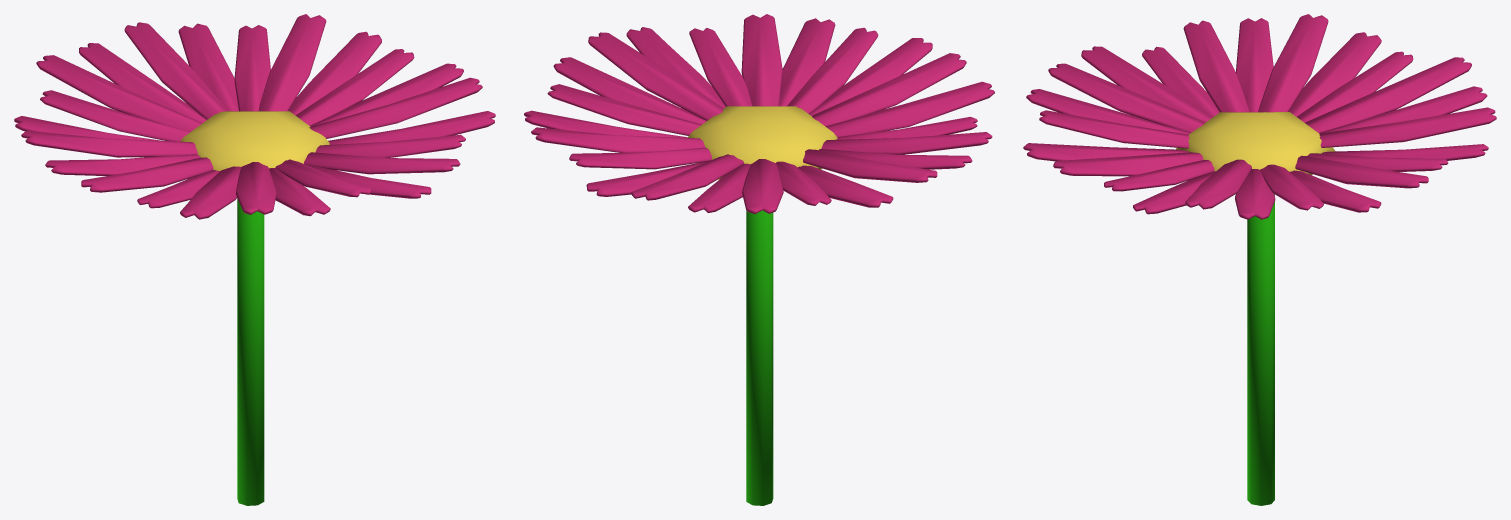
Rendered from PinkFlower.fbx.
The picture shows the model from 3 angles, left to right: view 1: azimuth 30°, elevation 25°; view 2: azimuth 150°, elevation 25°; view 3: azimuth 270°, elevation 25°; orthographic projection.
Parts seen in each view (by area): view 1: Plane.009; view 2: Plane.009; view 3: Plane.009.
Part boxes in pixels (x1,y1,x2,y2): Plane.009: (14, 14, 495, 505); Plane.009: (524, 14, 994, 505); Plane.009: (1023, 14, 1496, 505).
Size of the model in its own units: 34.66 by 31.72 by 34.83.
